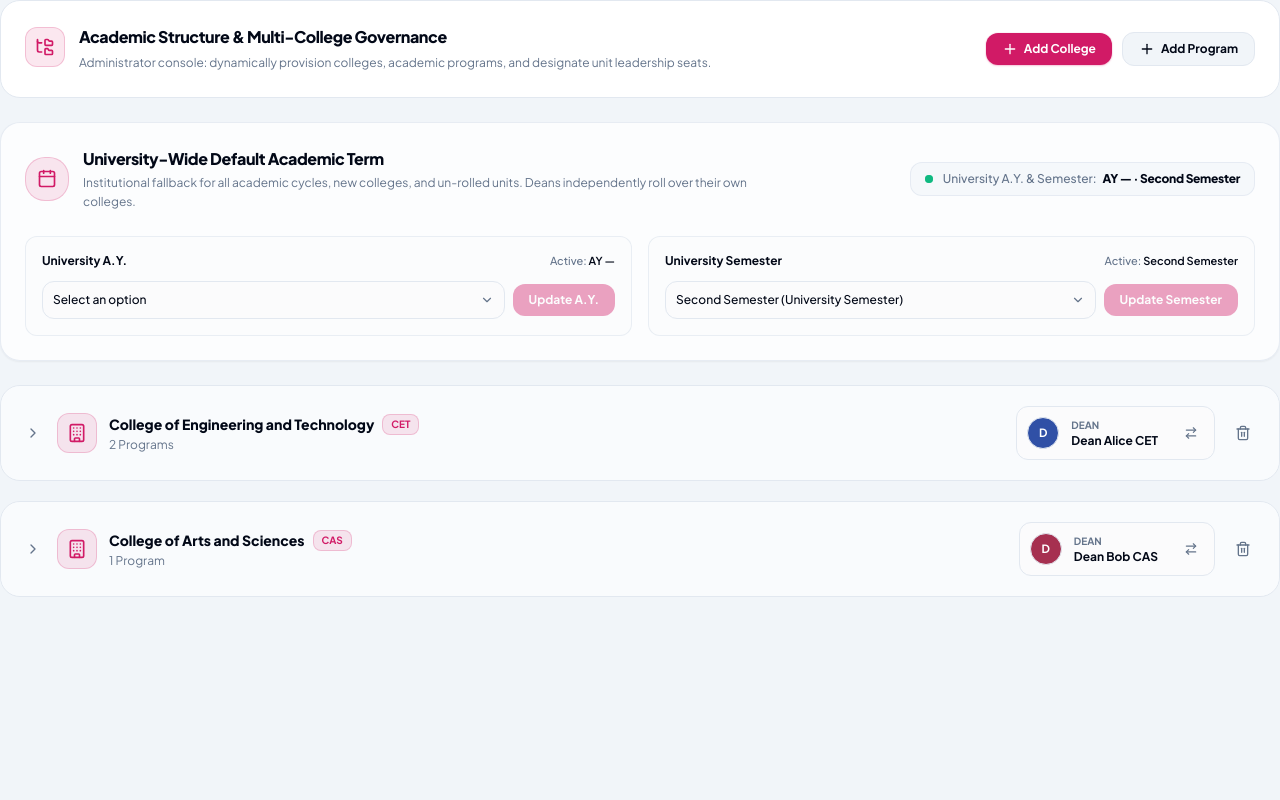
Test case: AcademicStructureTab Scoping and Leader Appointments › 10. Clicking delete on a blocked unit opens the Blocker Modal displaying the reasons
What coordinates should you click on to do the following:
click the button named "delete college of engineering and technology"
I would click on:
 (1243, 433)
Its box is [1227,417,1259,449].
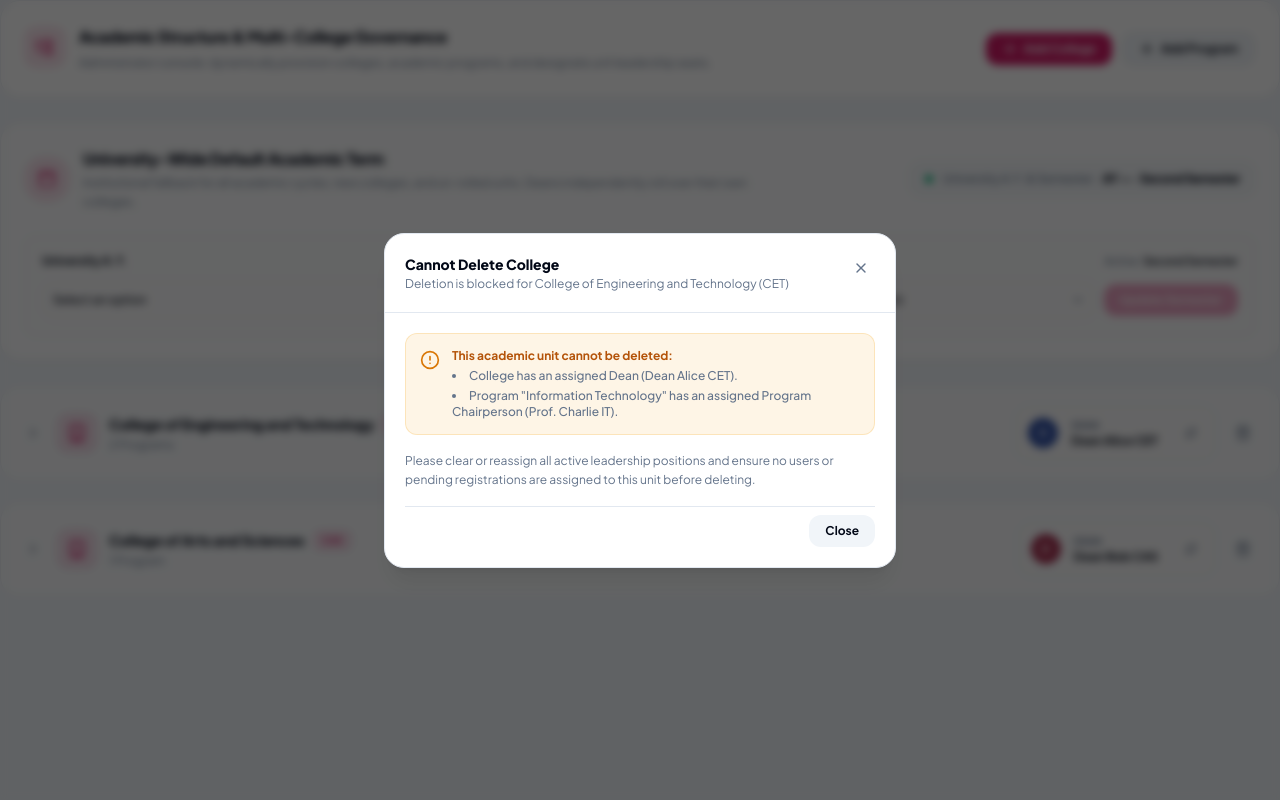
Expected: the heading "Cannot Delete College" is shown, [405,254,559,272]
Expected: the list item "College has an assigned Dean (Dean Alice CET)." is shown, [469,368,738,382]
Expected: the 2nd list item is shown, [452,388,811,418]
Dismiss blocker modal
What coordinates should you click on to do the following:
click the button "Close"
I would click on:
 (842, 530)
Its box is [809,514,875,546].
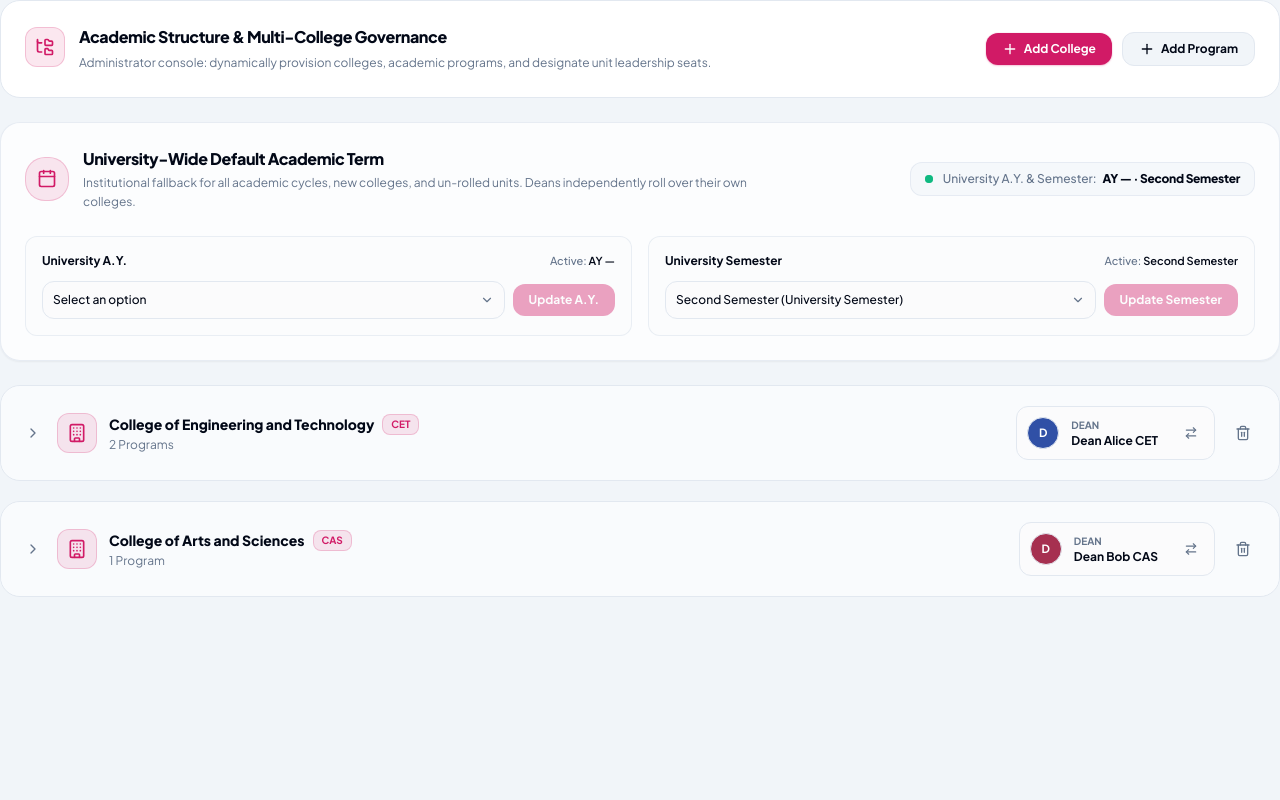
Expected: the heading "Cannot Delete College" is gone
